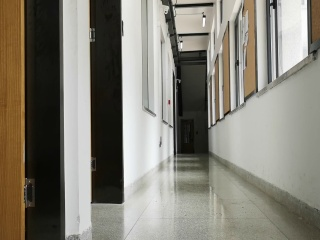room: (2, 2, 72, 240), (85, 1, 131, 208)
